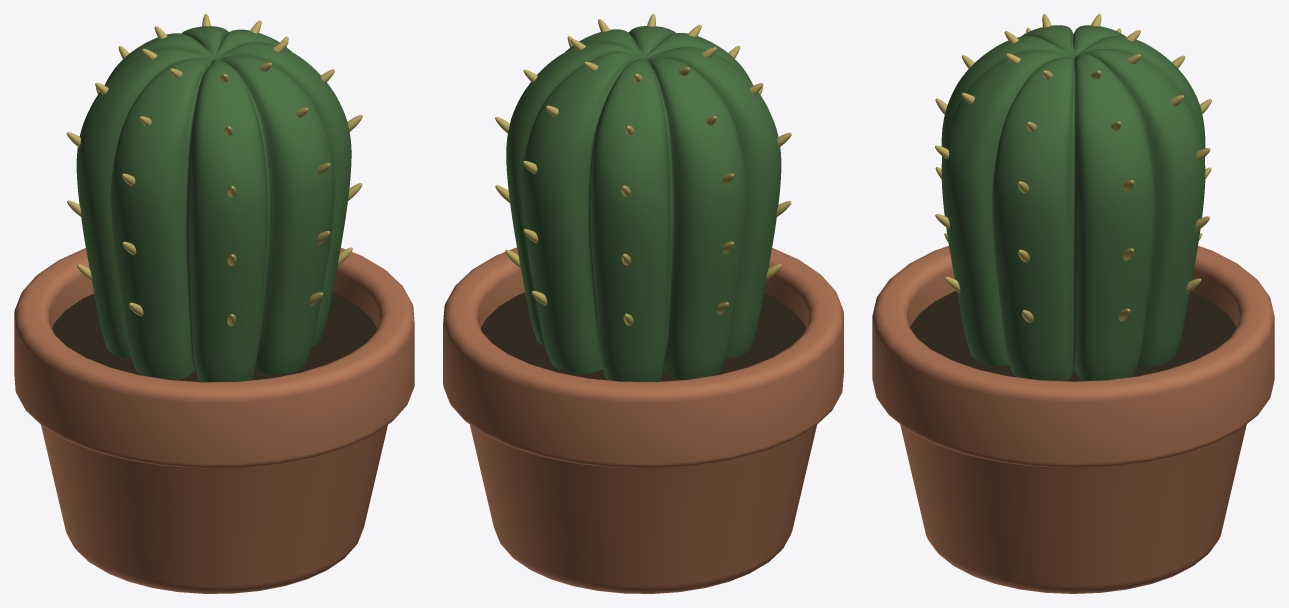
File: cactus_simple.glb
3 renders of one model, left to right at view 1: azimuth 30°, elevation 25°; view 2: azimuth 150°, elevation 25°; view 3: azimuth 270°, elevation 25°, orthographic.
Visible parts, largest first — view 1: Pot, Cactus Base, Cactus Spikes; view 2: Pot, Cactus Base, Cactus Spikes; view 3: Pot, Cactus Base, Cactus Spikes.
Part boxes in pixels (x1,y1,x2,y2): Pot: (14,247,414,593); Cactus Base: (76,26,351,382); Cactus Spikes: (66,14,362,326); Pot: (443,247,843,593); Cactus Base: (506,26,781,381); Cactus Spikes: (495,14,791,325); Pot: (872,246,1274,593); Cactus Base: (941,25,1205,381); Cactus Spikes: (935,14,1211,322).
Size of the model in its own units: 0.6632 by 0.8997 by 0.6632.
